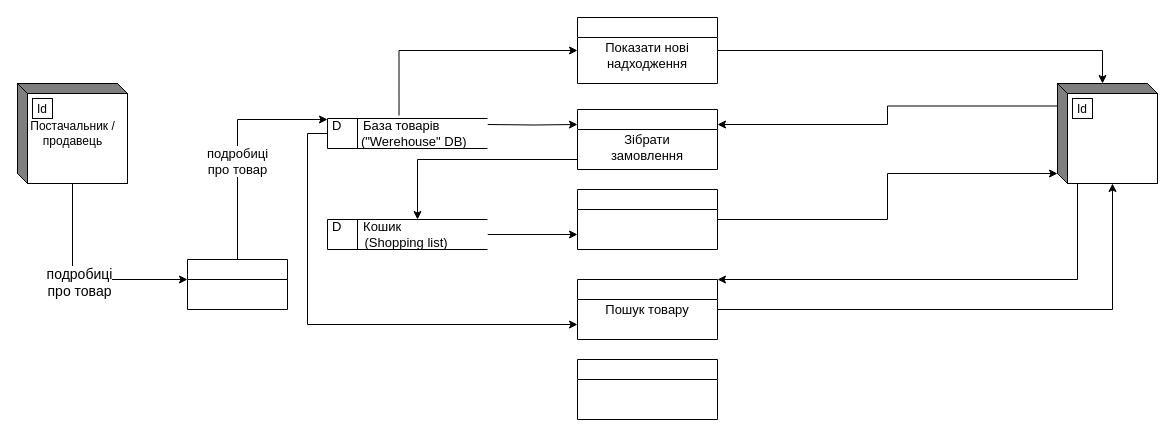
The diagram is 1175 pixels wide and 437 high, and some of its shapes have lost their labels. The shapes that lost their labels are listed below. From the top down, each one's centre as x and y in pixels, then its label:
At point (1107, 133): "Покупець".
At point (647, 219): "Переглянути замовлення".
At point (237, 284): "виставити товар на продаж".
